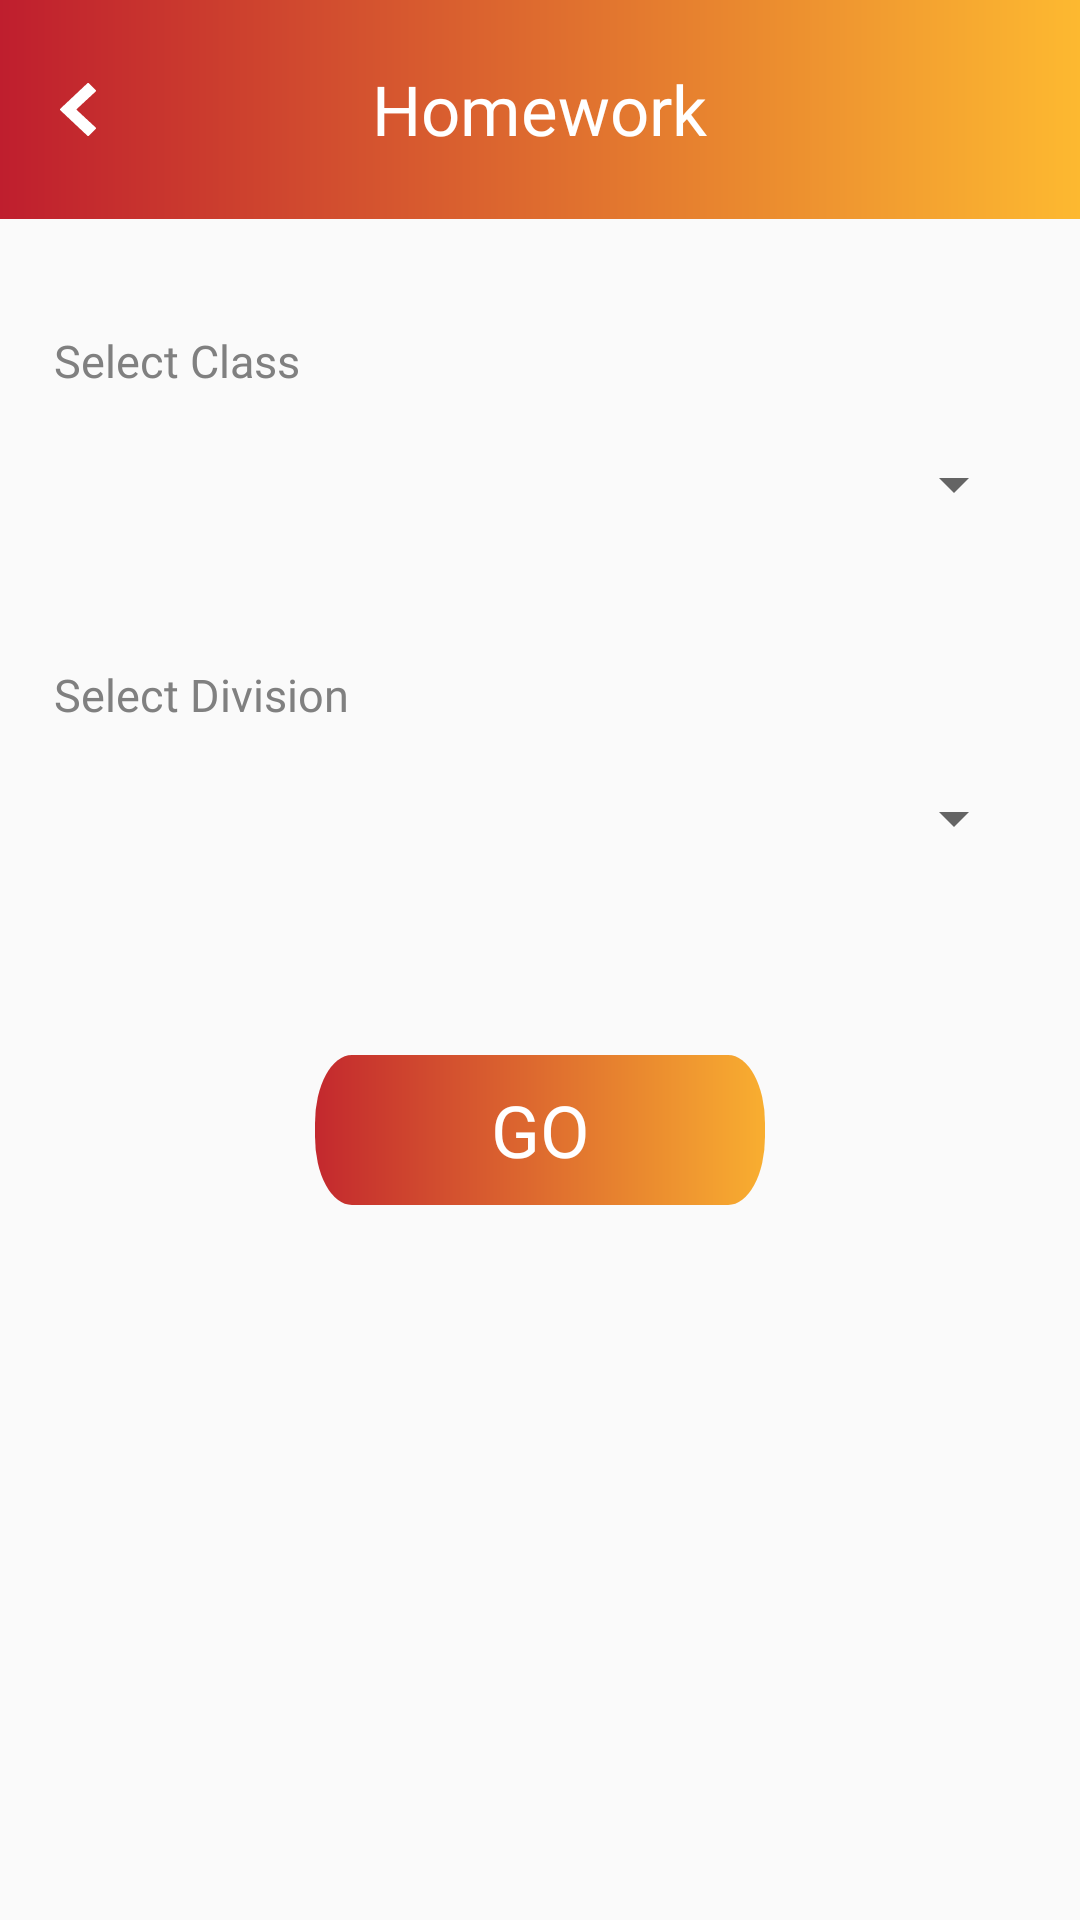

Locate icon controls on the screen. Image size 1080*1920, boxes as (x1=x1, y1=y1, x2=x2, y2=y2).
left: (x1=60, y1=83, x2=96, y2=136)
